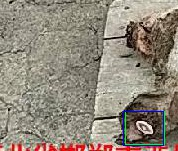text: (125, 111, 164, 144)
